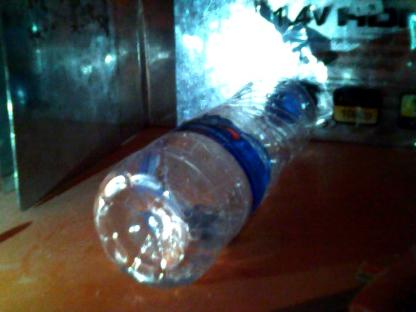Plastic Bottle: (95, 77, 322, 293)
